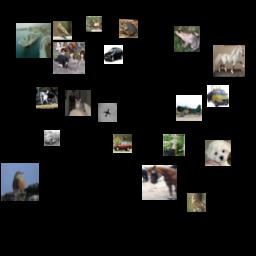airplane: (176, 95, 202, 121), (98, 103, 117, 122)
automobile: (113, 134, 132, 153), (104, 45, 123, 64)
bird: (1, 163, 39, 201), (163, 134, 185, 156), (187, 193, 206, 212), (53, 21, 72, 40)
cat: (53, 42, 85, 74), (65, 90, 91, 116)
deer: (86, 16, 102, 32)
dog: (205, 140, 231, 166)
frog: (174, 26, 200, 52), (119, 19, 138, 38)
ship: (16, 23, 51, 58)
truck: (207, 85, 229, 107), (44, 130, 60, 146)
